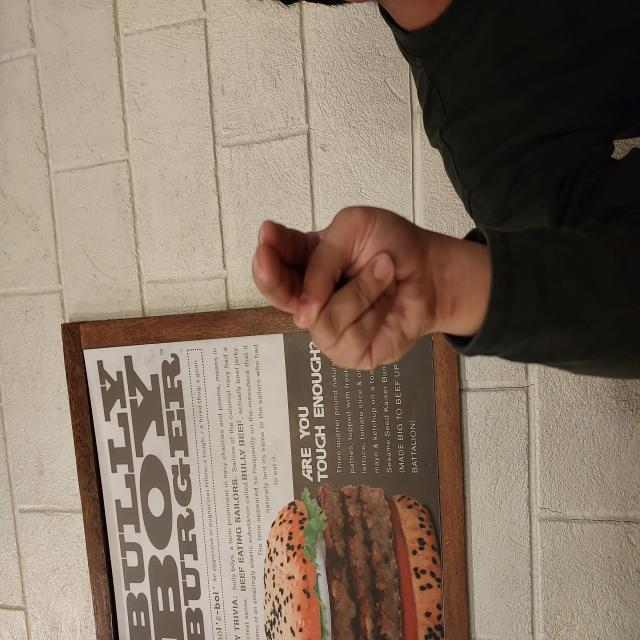N: (268, 250, 437, 439)
